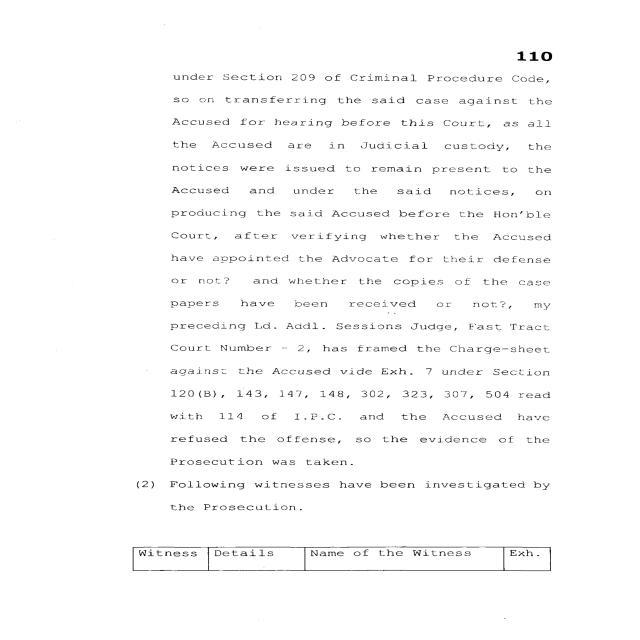page-number: (432, 4, 636, 70)
